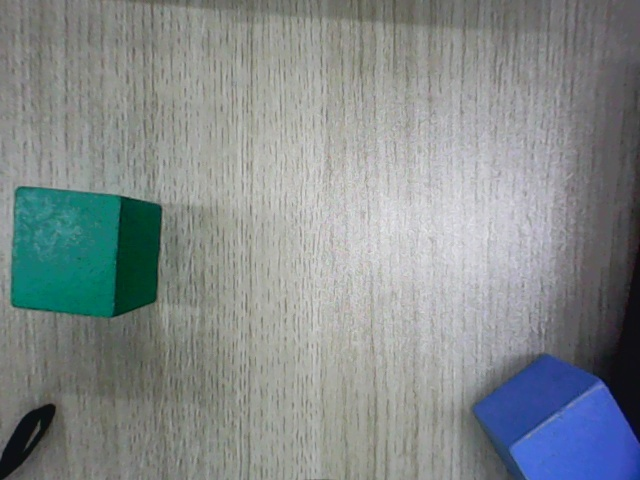upside of big cube: (12, 188, 122, 319), (509, 383, 639, 479)
